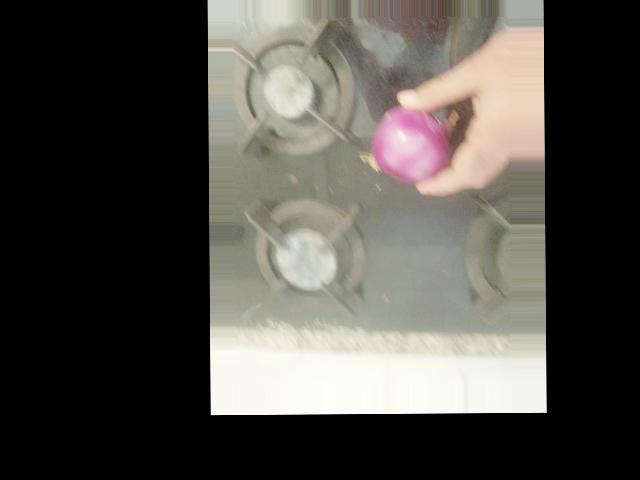onion: (368, 100, 455, 184)
